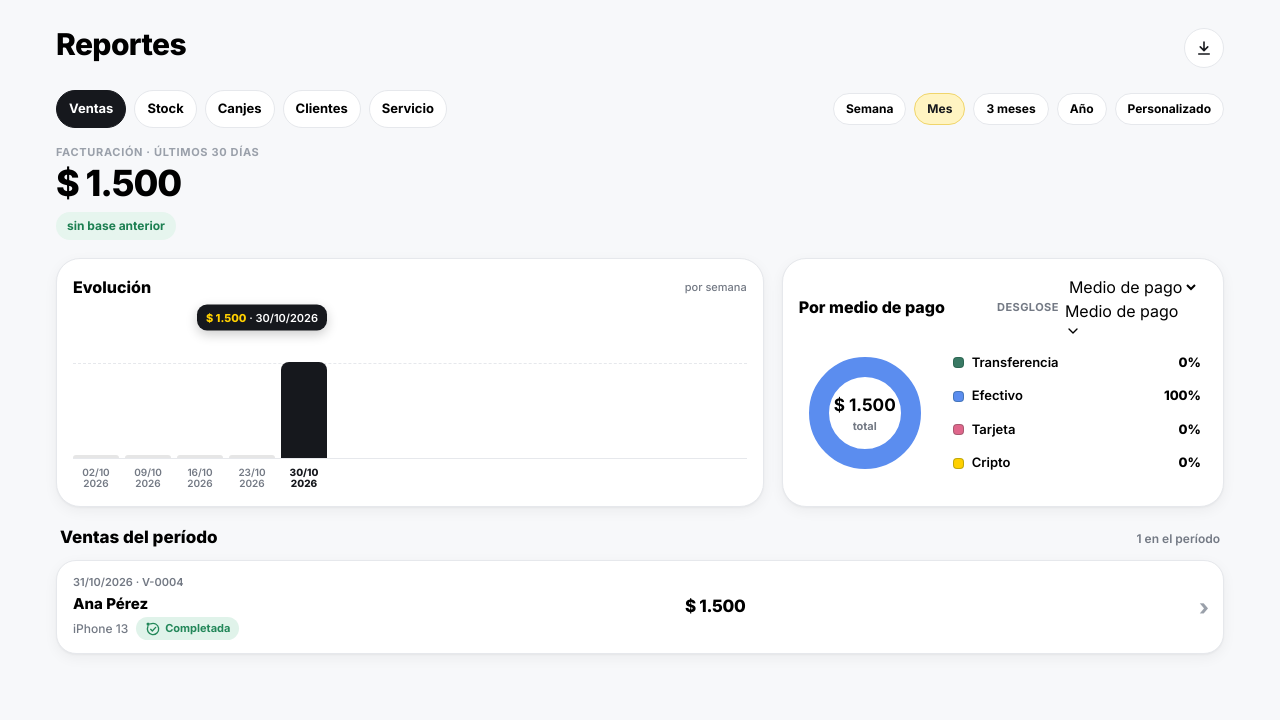
it: operation detail › opens the shared compact sale detail from Reportes with grouped trade data (COMPLETADA)
Click the button "31/10/2026 · V-0004 Ana Pérez iPhone 13 Completada $ 1.500 ›" at (103, 582), box [56, 560, 1224, 654]
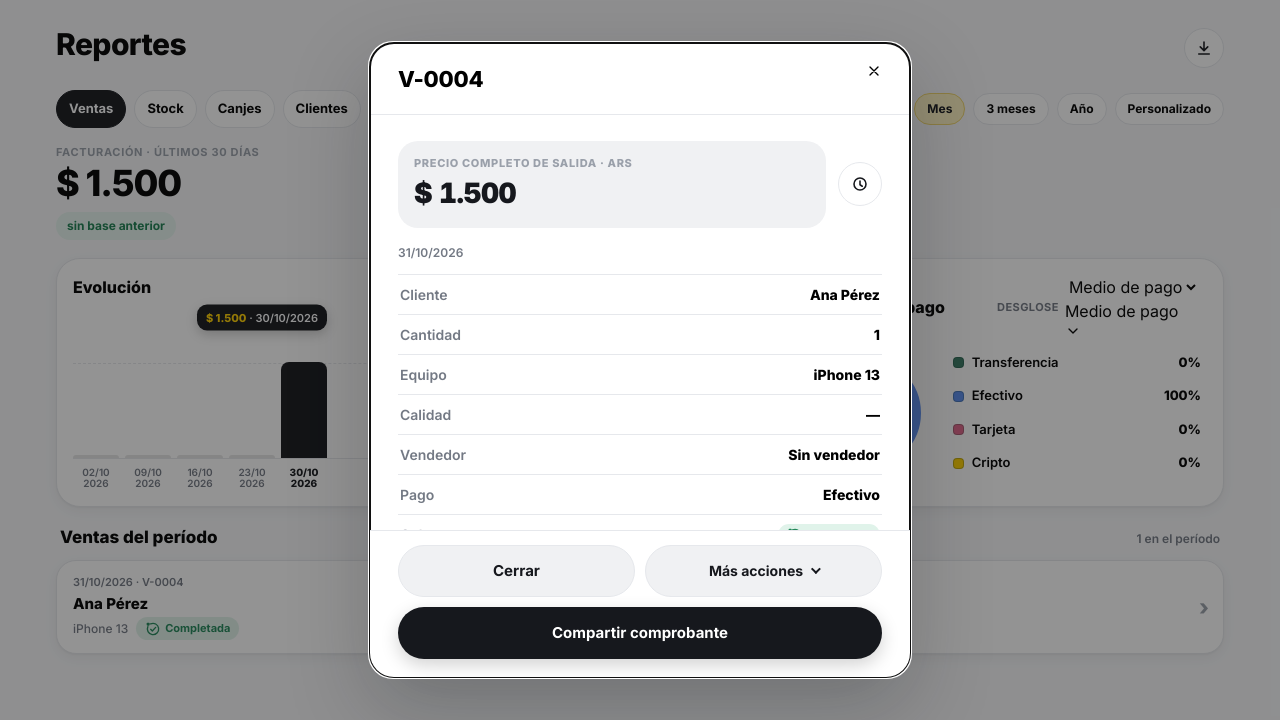
Click the heading "Más acciones" at (764, 571), box [645, 545, 882, 597]
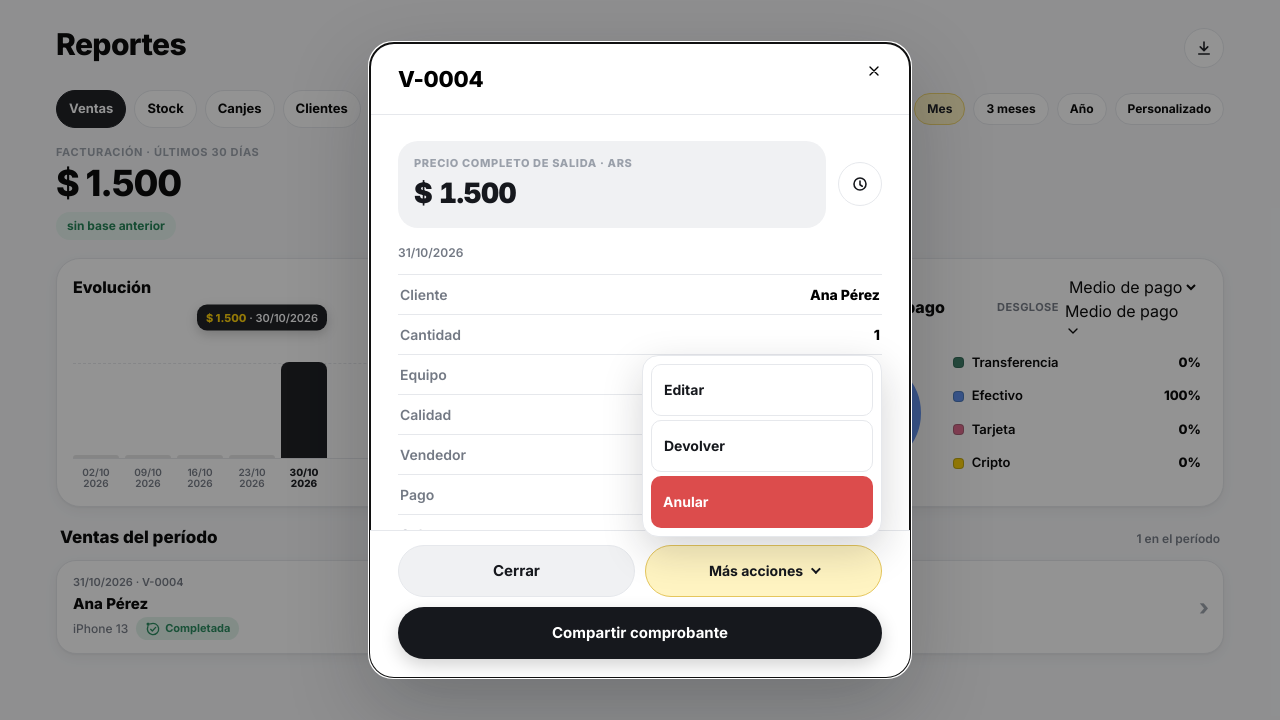
Check: the button "Editar" is shown, box [651, 364, 873, 416]
